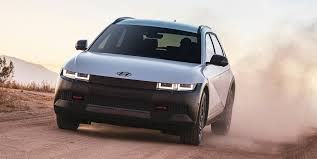car: (49, 17, 242, 145)
